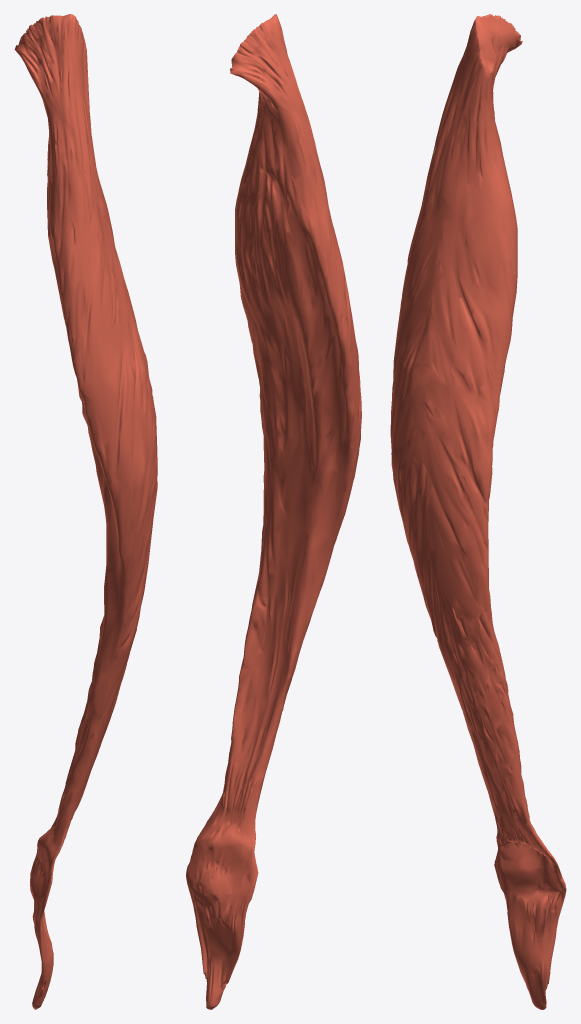
File: rectus-femoris.glb
3 views of the same model, side by side, from view 1: azimuth 90°, elevation 25°; view 2: azimuth 150°, elevation 25°; view 3: azimuth 330°, elevation 25° (orthographic). The views are drawn at different scales.
Parts seen in each view (by area): view 1: Rectus femoris muscle.r; view 2: Rectus femoris muscle.r; view 3: Rectus femoris muscle.r.
Boxes of the visible parts, <box> form: Rectus femoris muscle.r: <box>14,14,157,1009</box>; Rectus femoris muscle.r: <box>186,14,361,1009</box>; Rectus femoris muscle.r: <box>390,14,566,1009</box>.
Bounding box in the file's own units: 0.0816 × 0.5453 × 0.0695.
